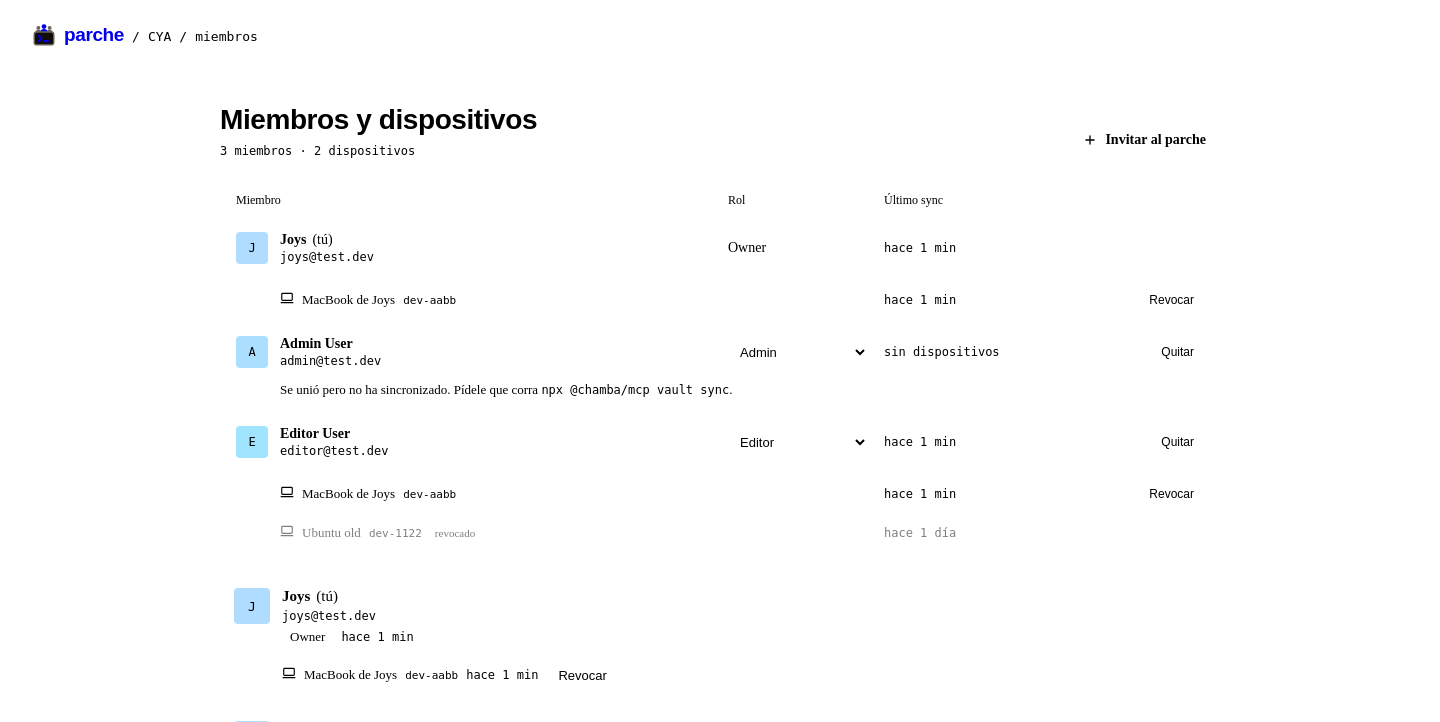
Test case: MiembrosPage › shows last_owner error when role change returns 409
Expected: the heading "Miembros y dispositivos" is shown, x1=220 y1=104 x2=537 y2=136
# Change first select
Step 1. Select "Lector" in the dropdown named "Rol de Admin User" below "Rol" → (798, 352), box x1=728 y1=336 x2=868 y2=368
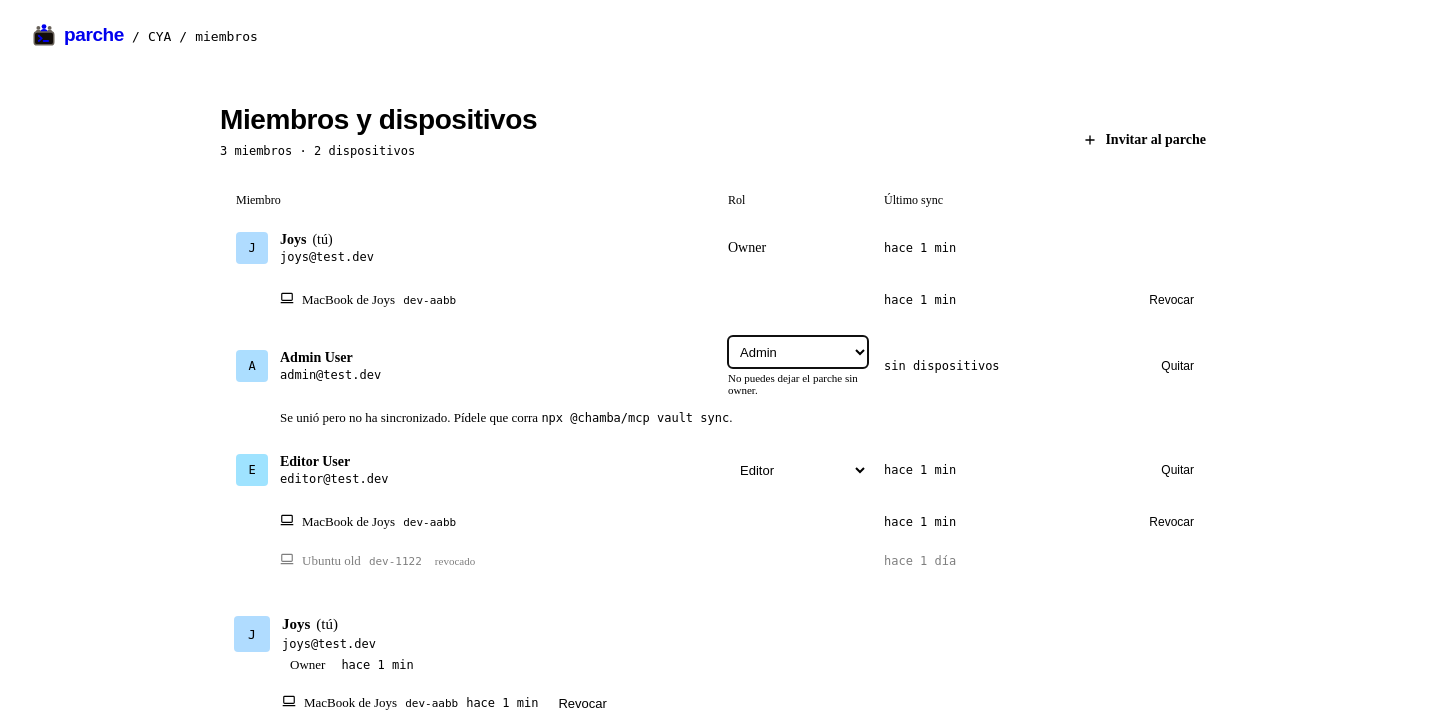
Expected: the text "No puedes dejar el parche sin owner." is shown, x1=728 y1=372 x2=868 y2=396
